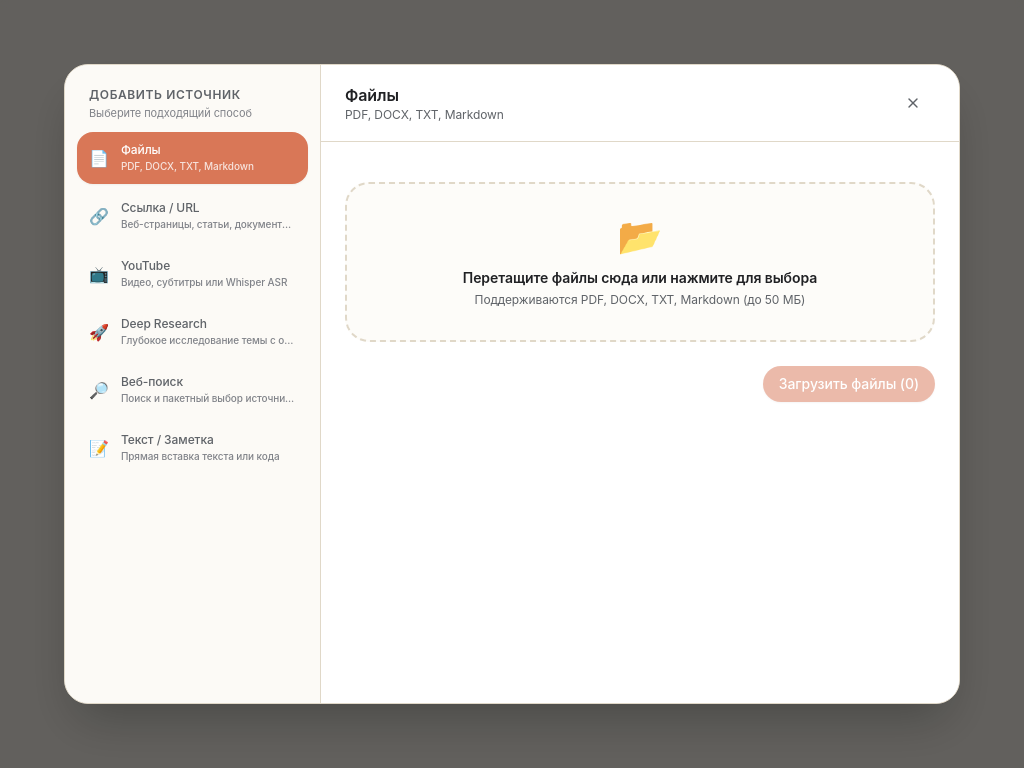
Test: AddSourcesHubDialog › switches to URL tab and allows entering a URL
The width and height of the screenshot is (1024, 768).
Step 1. Click the button with test id "hub-tab-url" → (192, 216), box [77,190,308,242]
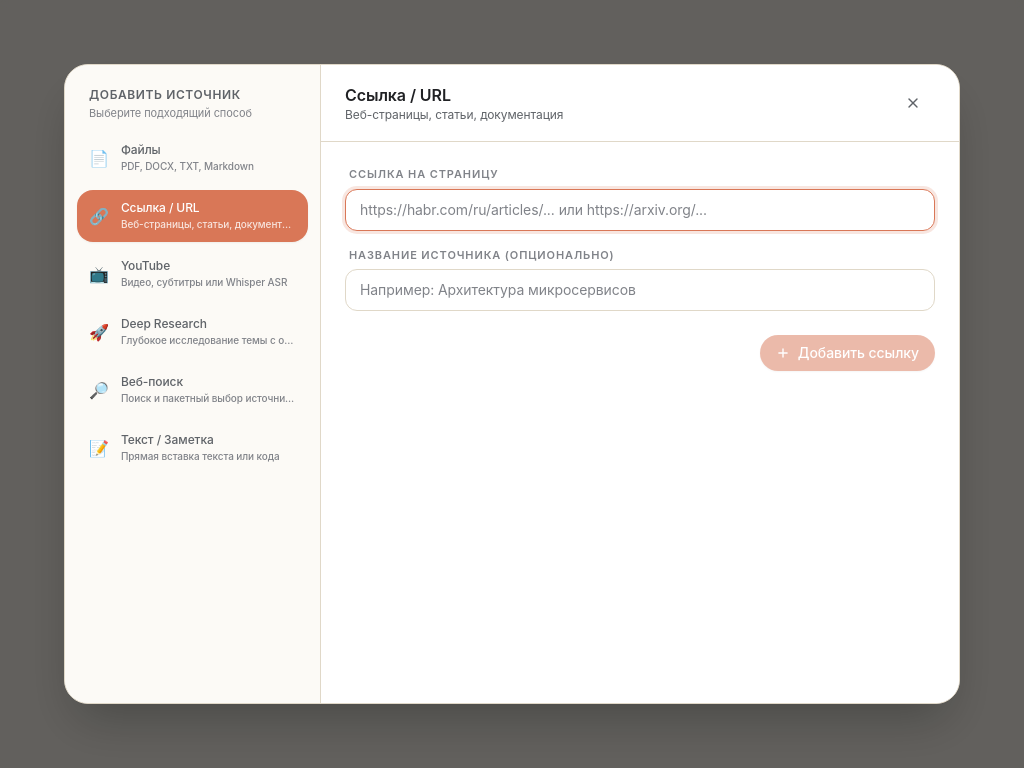
Result: the field with placeholder "https://habr.com/ru/articles/... или https://arxiv.org/..." is shown at [345,188,935,230]
